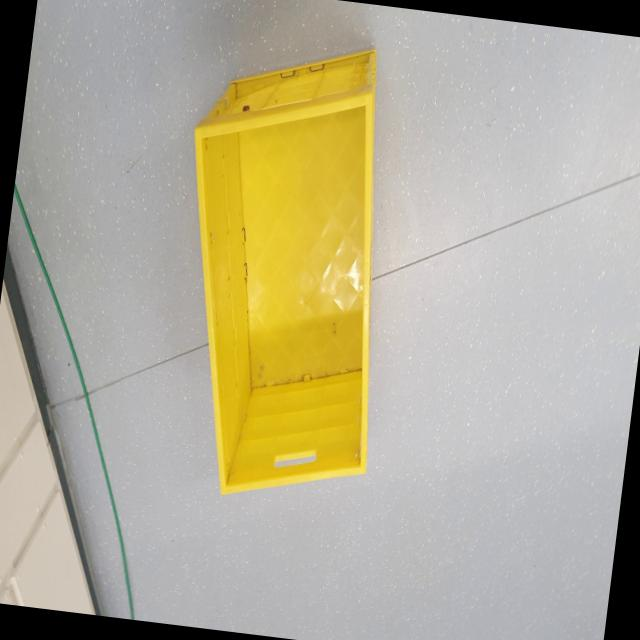box: (139, 0, 424, 548)
